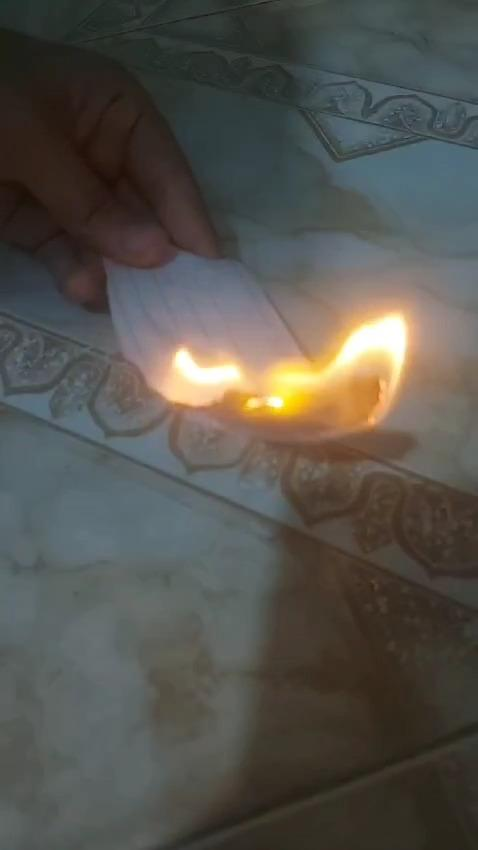Fire: (170, 309, 423, 456)
